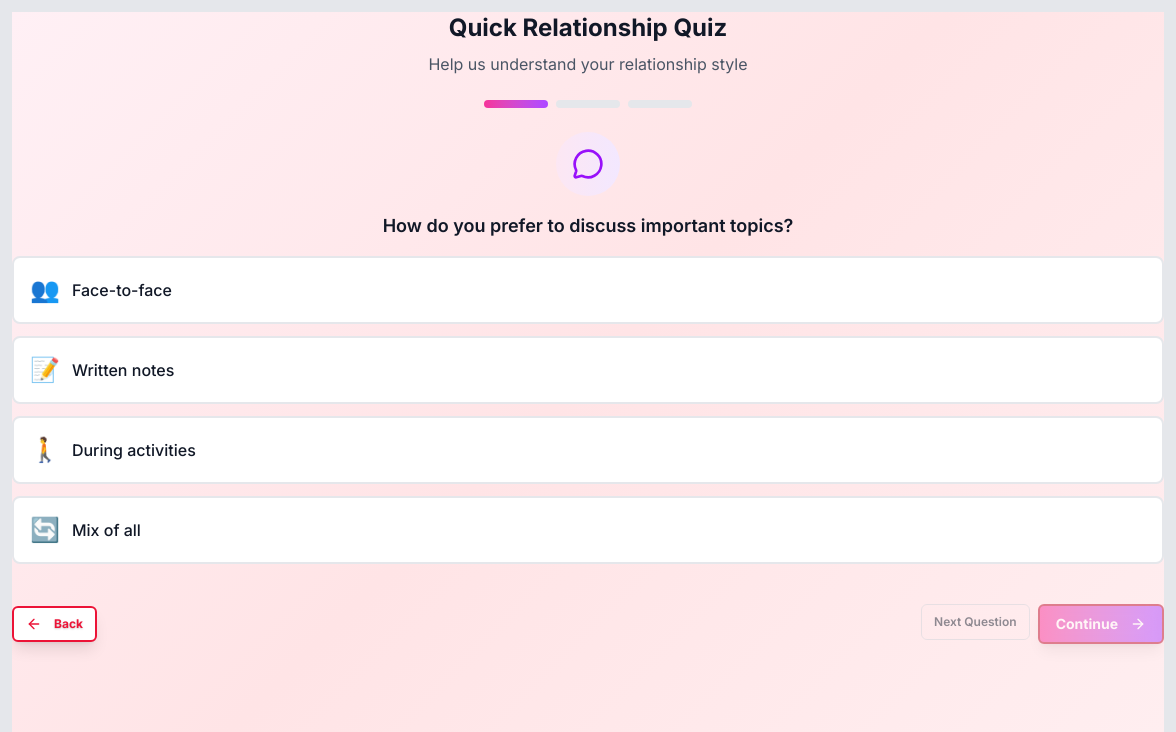
Test: QuizStep › advances to next question when answer is selected
Note: Answer first question
Click the text "Face-to-face" at (122, 290), box left=72, top=278, right=172, bottom=302
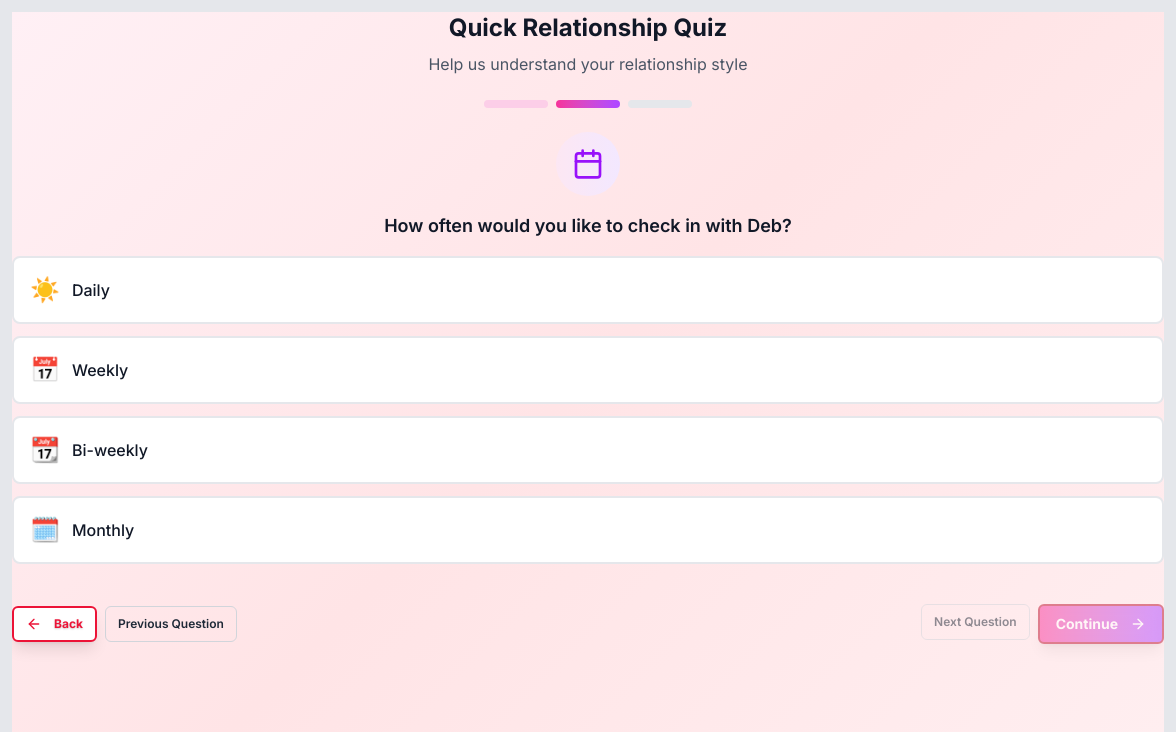
Check: the heading "How often would you like to check in with Deb?" is shown, box left=384, top=215, right=792, bottom=236
